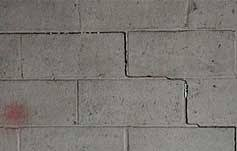stairstep_crack: (0, 30, 236, 150)
